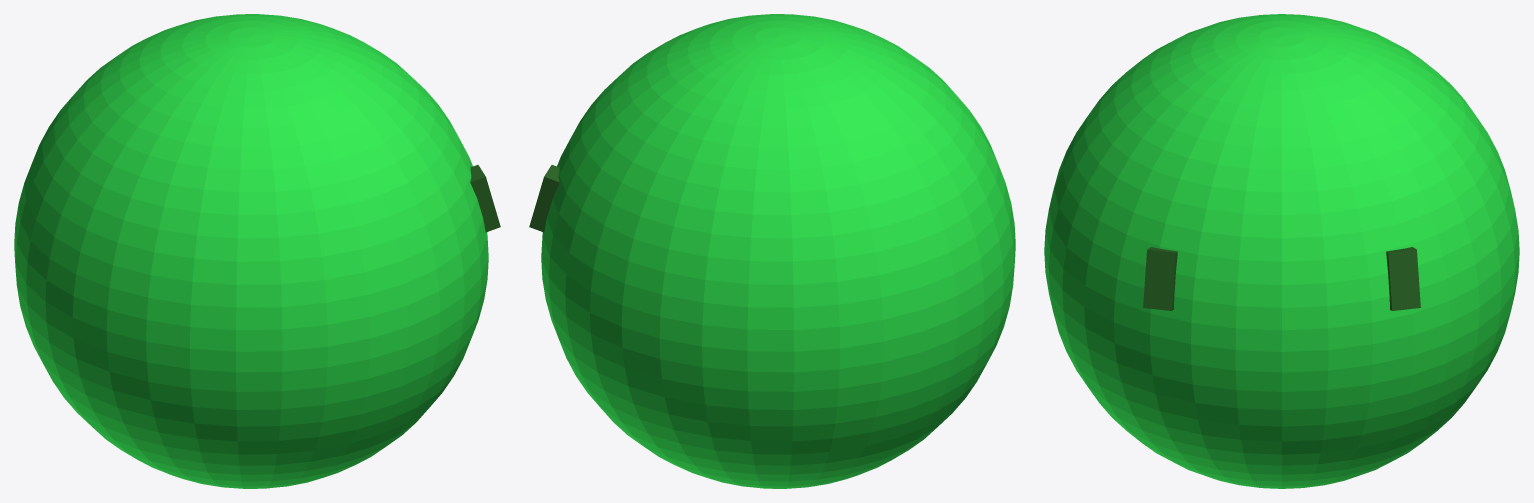
File: testSlime.fbx
3 renders of one model, left to right at view 1: azimuth 30°, elevation 25°; view 2: azimuth 150°, elevation 25°; view 3: azimuth 270°, elevation 25°, orthographic.
Parts seen in each view (by area): view 1: Sphere; view 2: Sphere; view 3: Sphere.
Boxes of the visible parts, x1,y1,x2,y2 form: Sphere: (14,14,500,488); Sphere: (529,14,1015,488); Sphere: (1044,14,1519,488).
Bounding box in the file's own units: 200 × 200 × 200.
